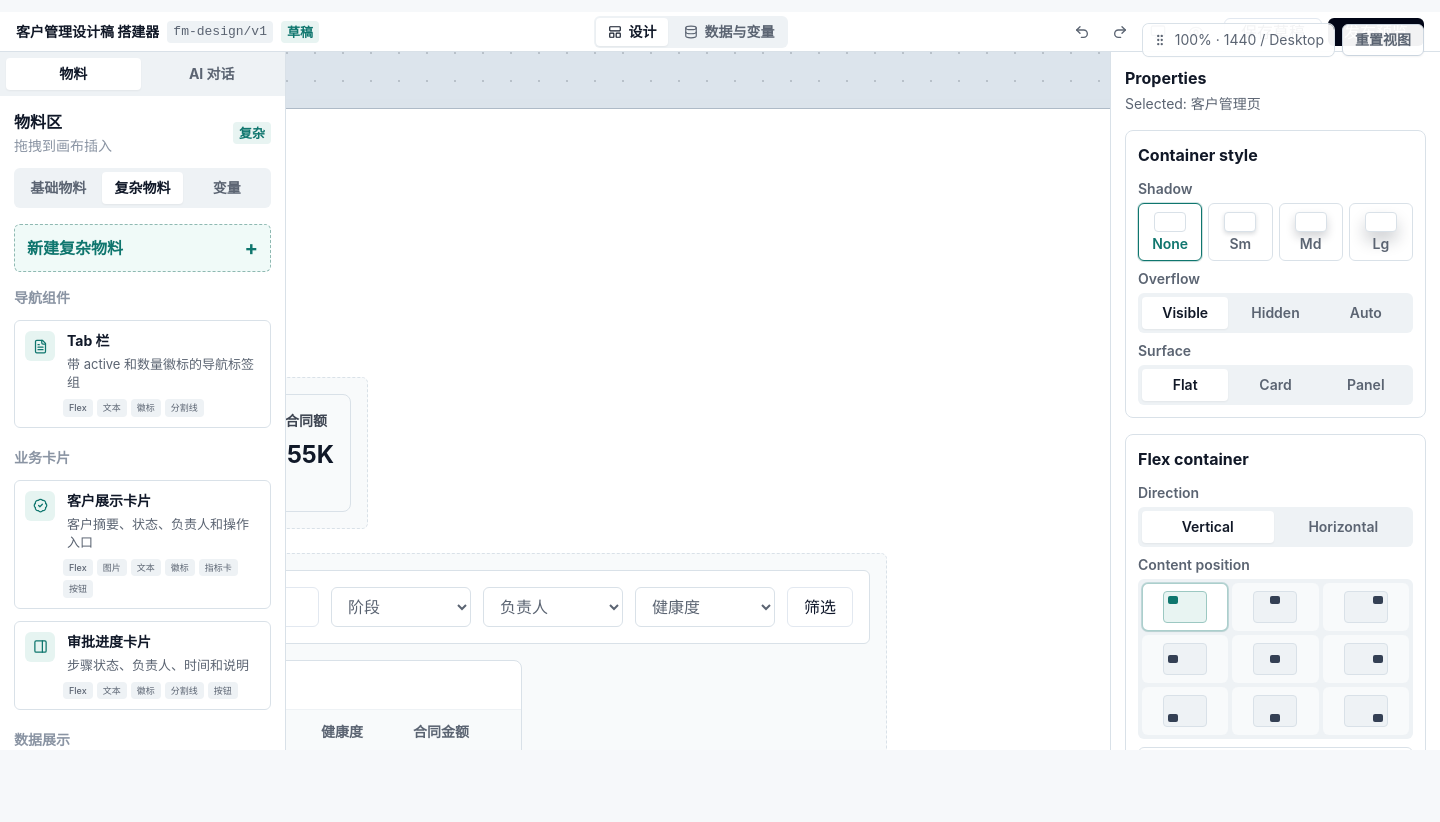
Scenario: LowCodePage design builder › searches page variables in the data workspace
This screenshot has width=1440, height=822.
Click the button "数据与变量": point(730, 32) [672,18,786,46]
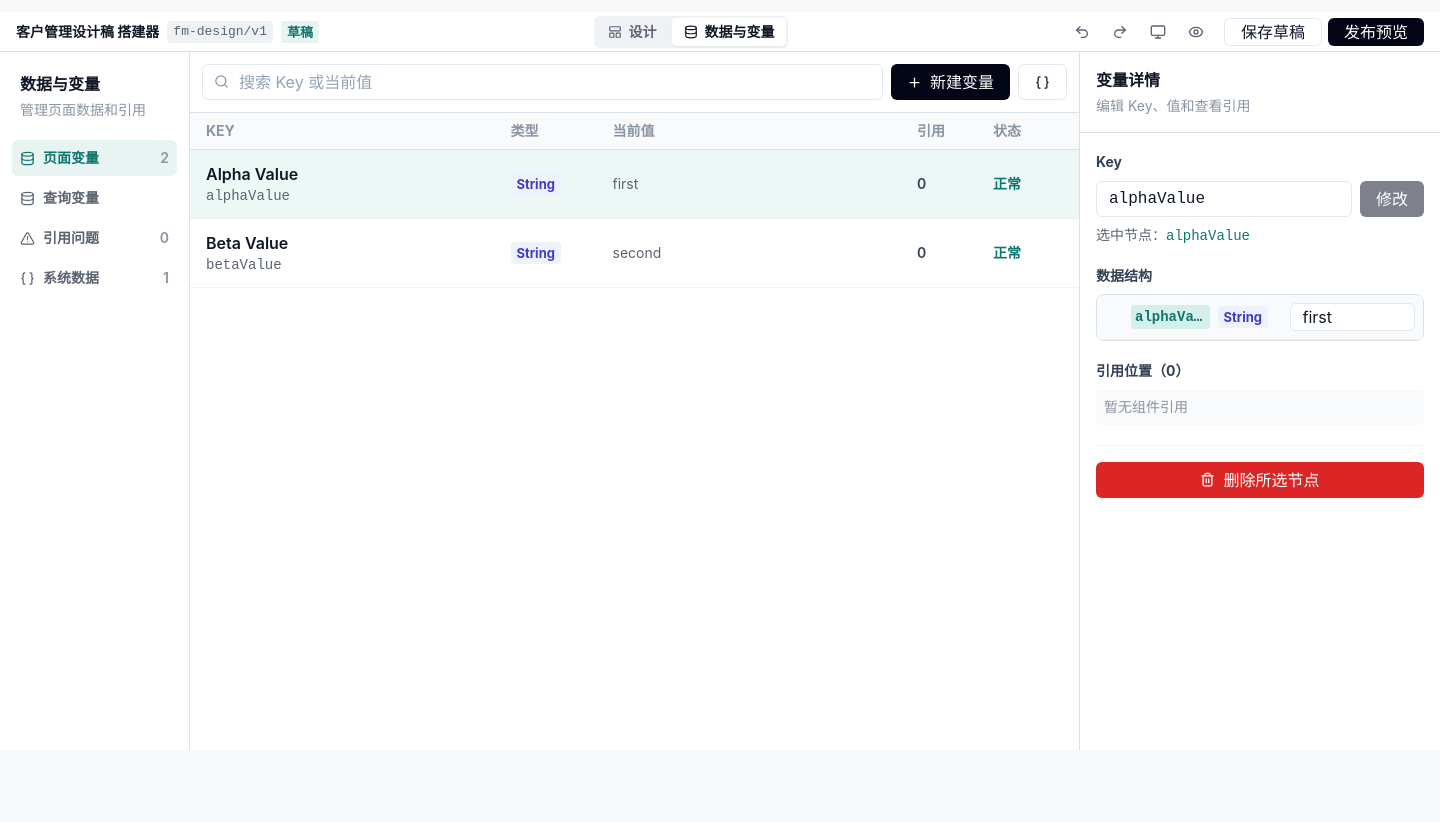
In the field named "搜索变量": point(542, 82) [202,64,883,100], type "beta"
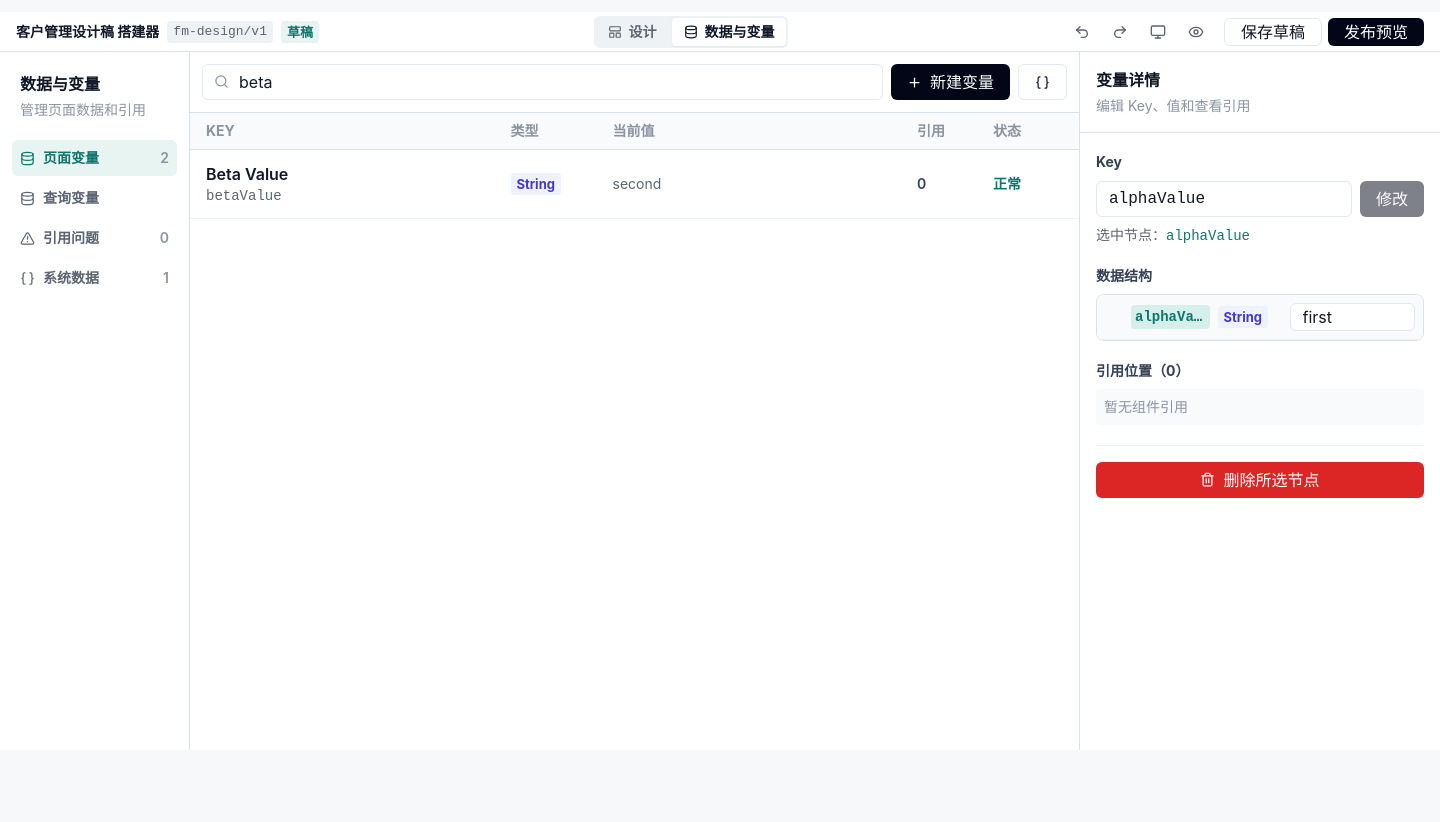
Check: the text "Beta Value" is shown, box [206,164,288,184]
Check: the button "系统数据 1" is shown, box [12,260,177,296]
Check: the button "Alpha Value" is gone
